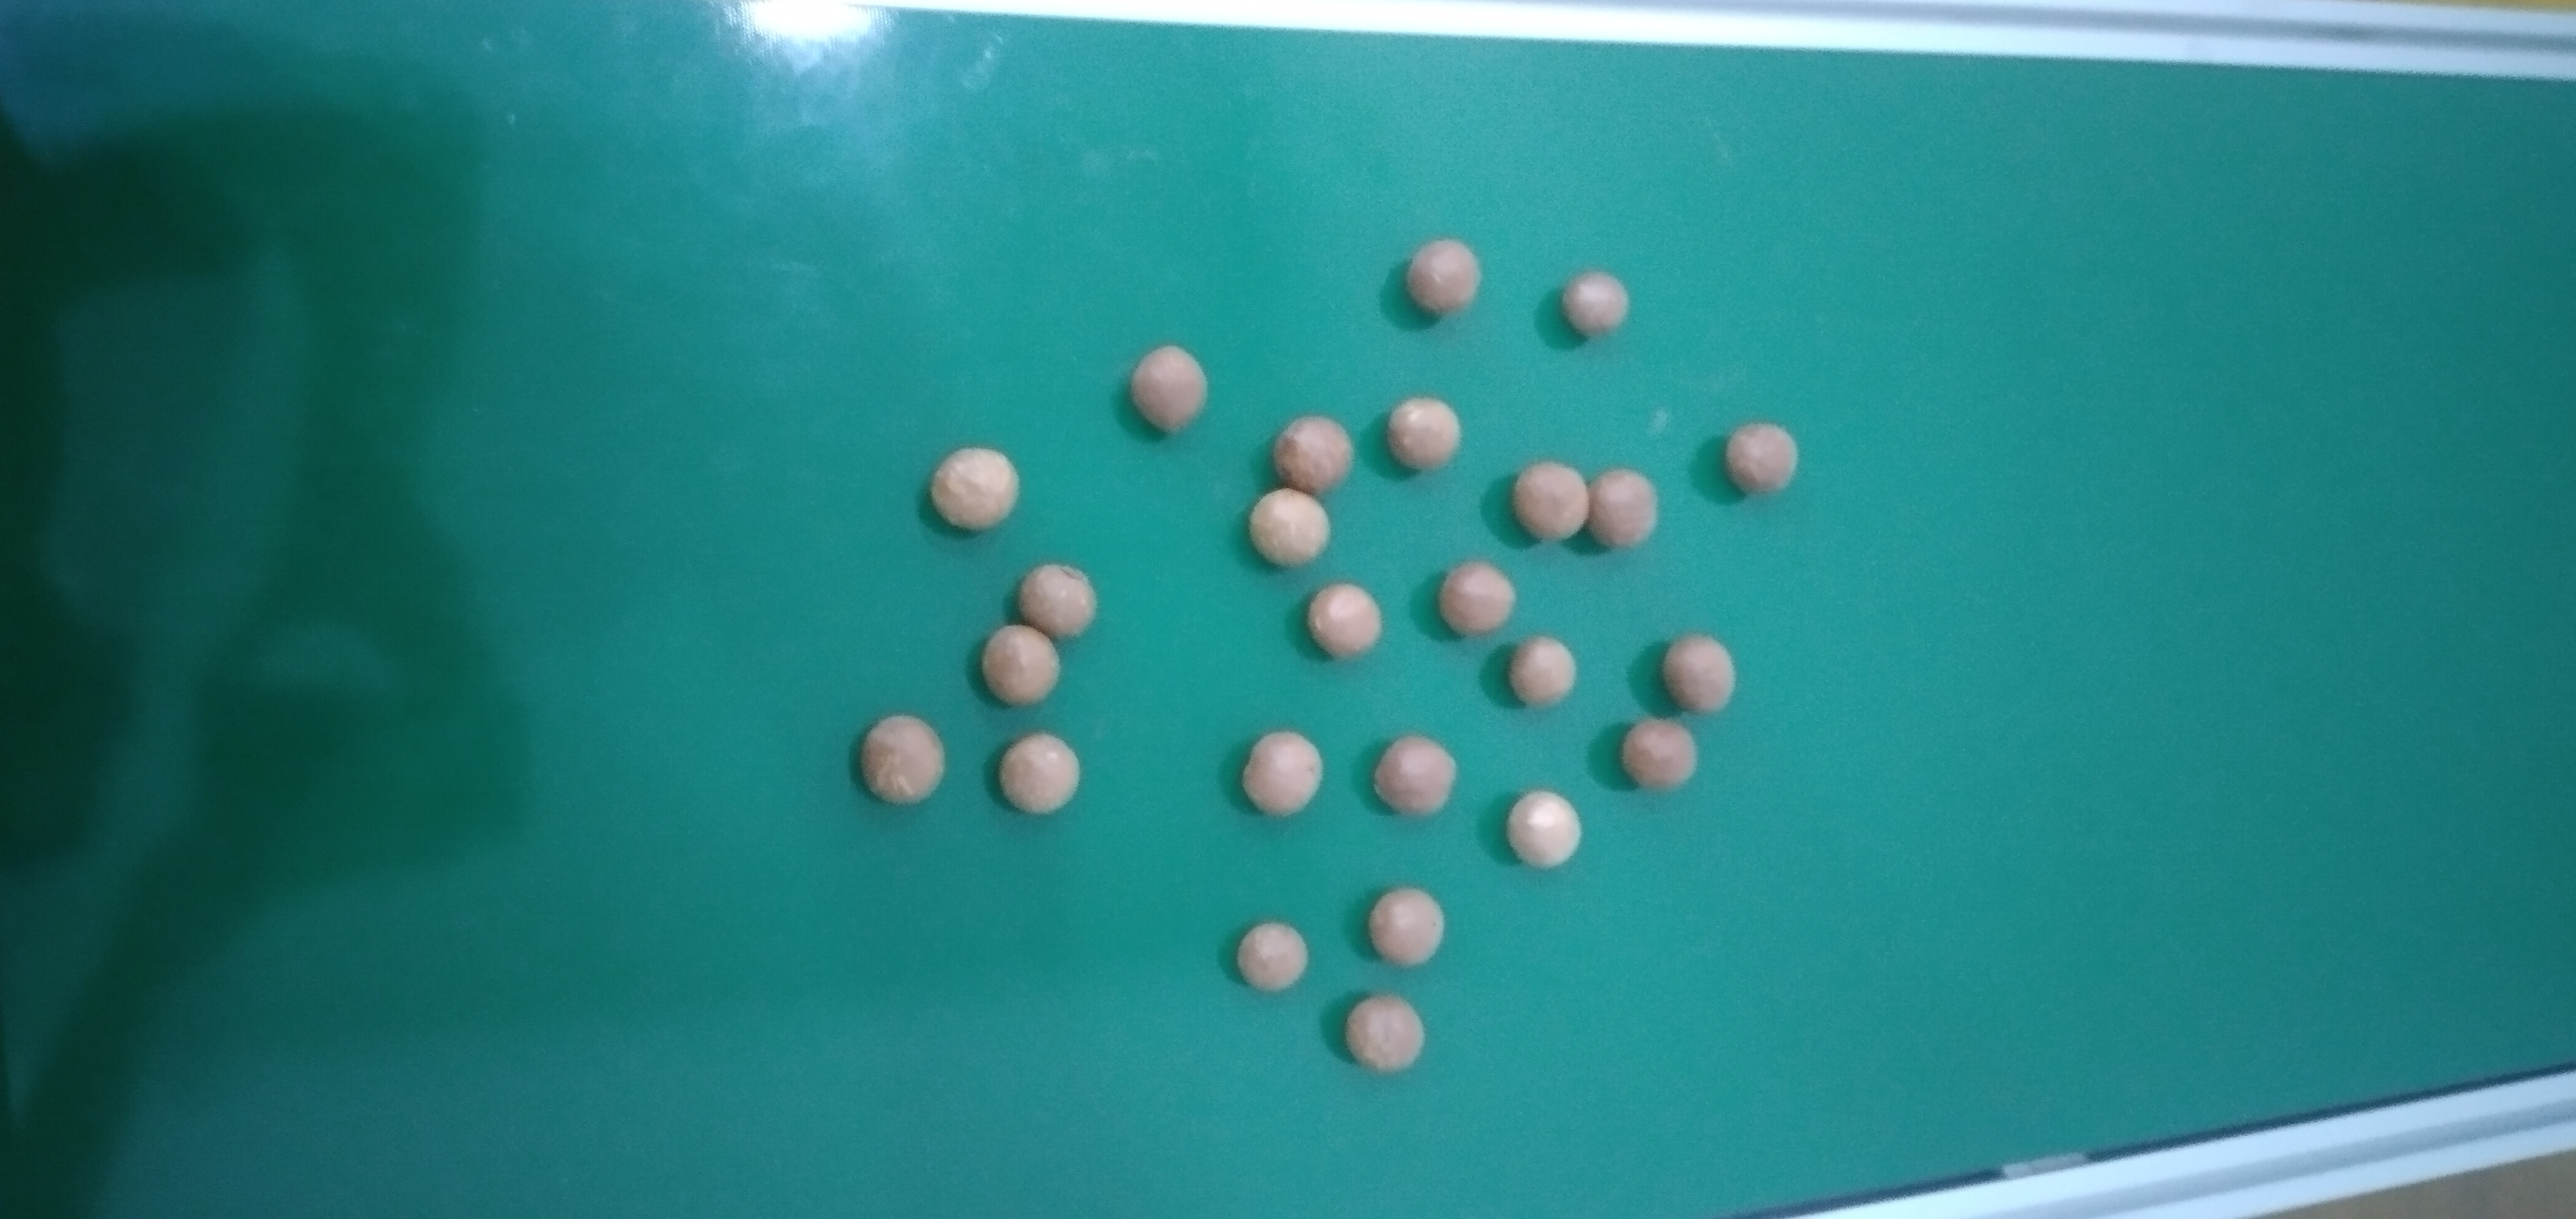mac: (858, 715, 945, 807), (1242, 729, 1324, 816), (930, 448, 1019, 529), (1373, 733, 1454, 818), (996, 734, 1083, 813), (1019, 560, 1099, 642), (1129, 348, 1207, 430), (1659, 632, 1736, 716), (1273, 417, 1354, 494), (1367, 887, 1444, 968), (1306, 582, 1382, 662), (982, 626, 1058, 705), (1511, 462, 1587, 539), (1249, 490, 1327, 563), (1618, 716, 1697, 790), (1506, 790, 1579, 869), (1347, 997, 1423, 1071), (1590, 470, 1658, 549), (1441, 562, 1513, 632), (1408, 240, 1477, 314), (1727, 422, 1796, 494), (1390, 399, 1460, 468), (1503, 639, 1577, 705), (1237, 923, 1308, 991), (1564, 273, 1625, 338)
